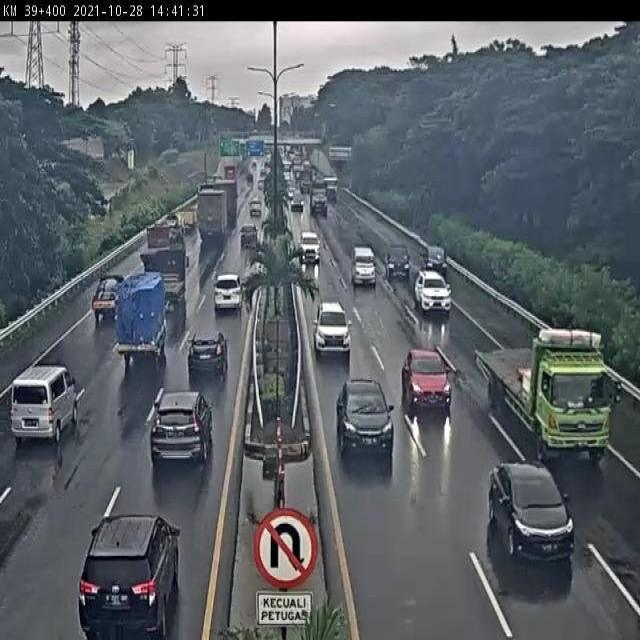car: (76, 513, 181, 640), (487, 461, 576, 564), (9, 365, 78, 443), (149, 391, 213, 463), (337, 380, 394, 459), (401, 348, 452, 412), (313, 300, 351, 353), (188, 331, 228, 377), (414, 270, 453, 314), (90, 272, 125, 321), (213, 273, 243, 312), (351, 244, 377, 285), (383, 246, 409, 278), (421, 244, 448, 272), (240, 223, 258, 248)
truck: (475, 327, 613, 464), (115, 271, 166, 360), (151, 246, 189, 306), (140, 224, 171, 268), (158, 212, 183, 249)
